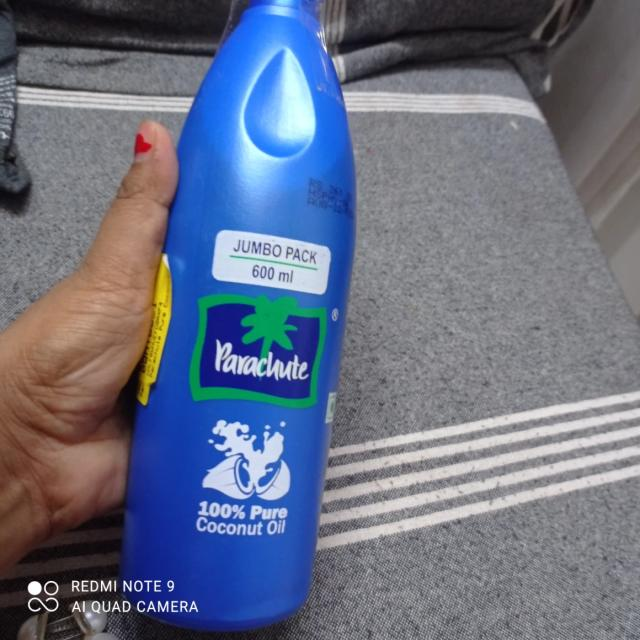parachute_oil: (152, 0, 357, 630)
